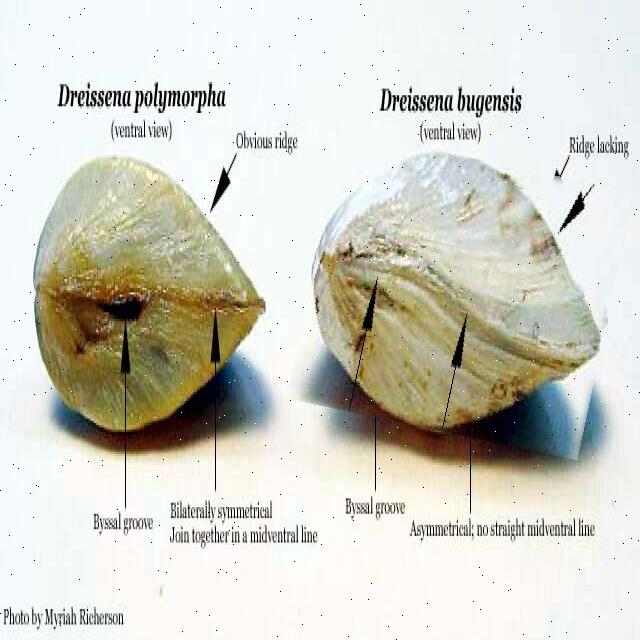Dreissena_bugensis: (298, 145, 622, 447)
Dreissena_polymorpha: (33, 153, 267, 441)
